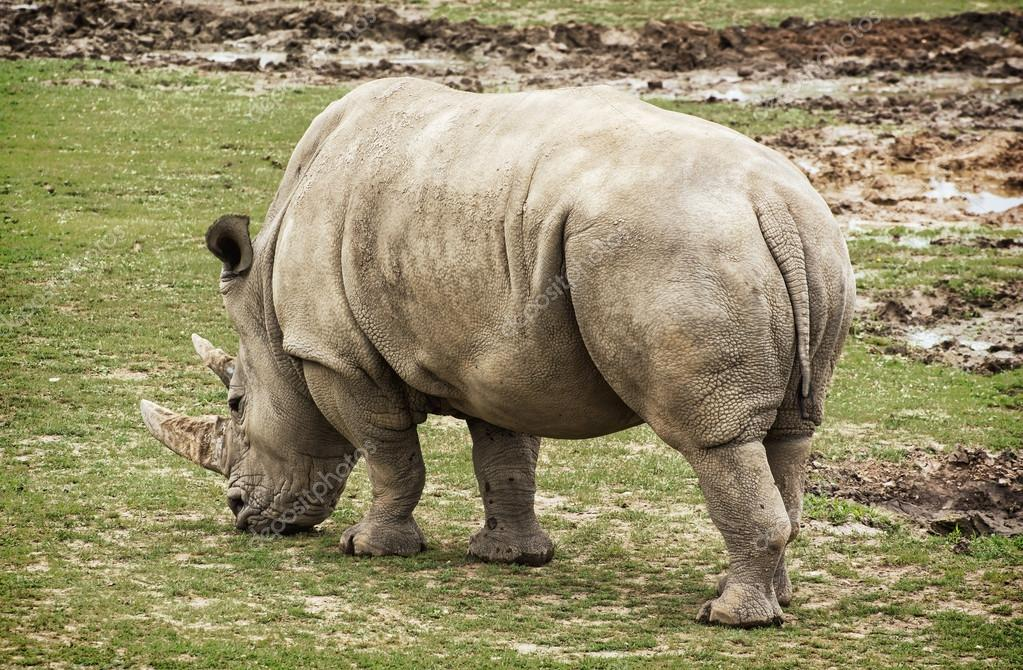rhinoceros: (137, 69, 826, 630)
